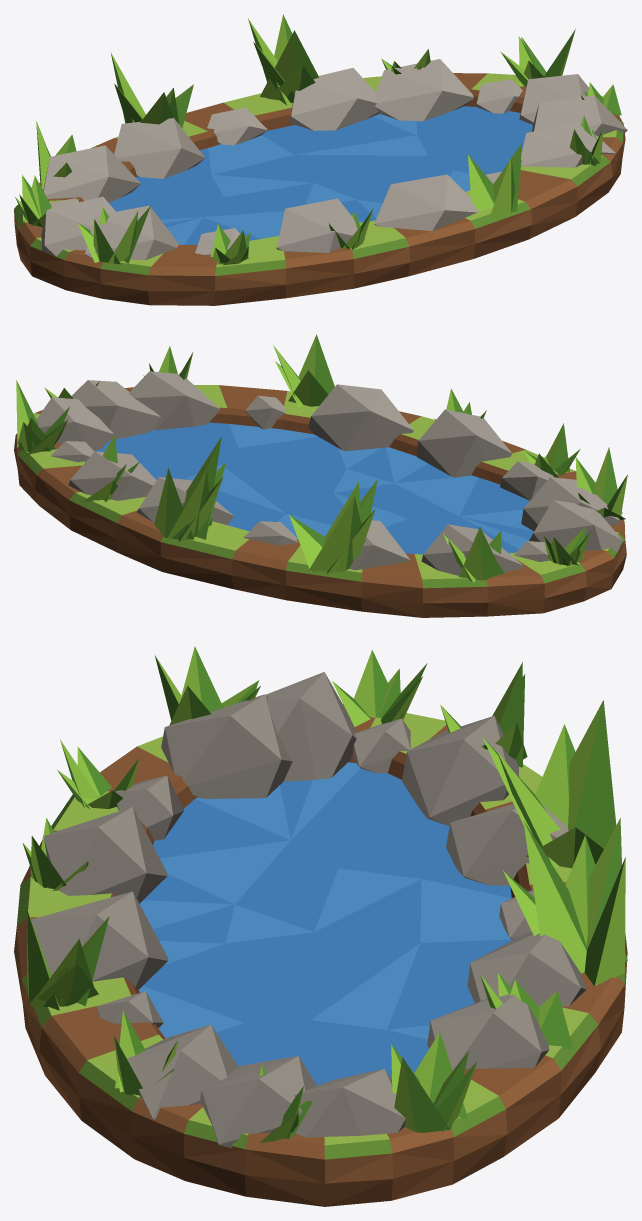
The model's file is FMS_Water_Pond_Oval.fbx.
3 renders of one model, top to bottom at view 1: azimuth 30°, elevation 25°; view 2: azimuth 150°, elevation 25°; view 3: azimuth 270°, elevation 25°, orthographic. The views are drawn at different scales.
Parts seen in each view (by area): view 1: FMS_Water_Pond_Oval; view 2: FMS_Water_Pond_Oval; view 3: FMS_Water_Pond_Oval.
Boxes of the visible parts, box(x1,y1,x2,y2) form: FMS_Water_Pond_Oval: box(14, 14, 627, 305); FMS_Water_Pond_Oval: box(14, 334, 627, 617); FMS_Water_Pond_Oval: box(14, 646, 627, 1206).
Size of the model in its own units: 5.97 by 1.17 by 3.42.
